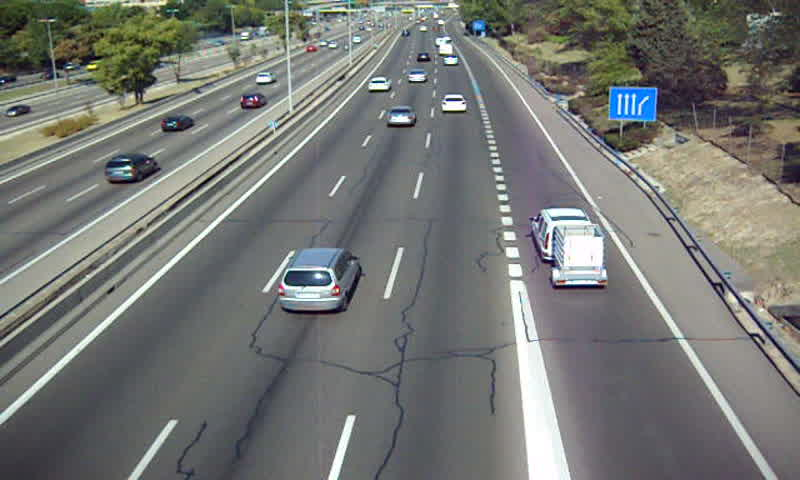car: (278, 248, 361, 312), (385, 106, 418, 129), (441, 94, 467, 113), (367, 76, 390, 93), (405, 69, 428, 84), (443, 54, 460, 66)
van: (530, 208, 594, 261)
